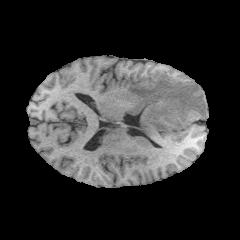glioma: (126, 72, 208, 149)
